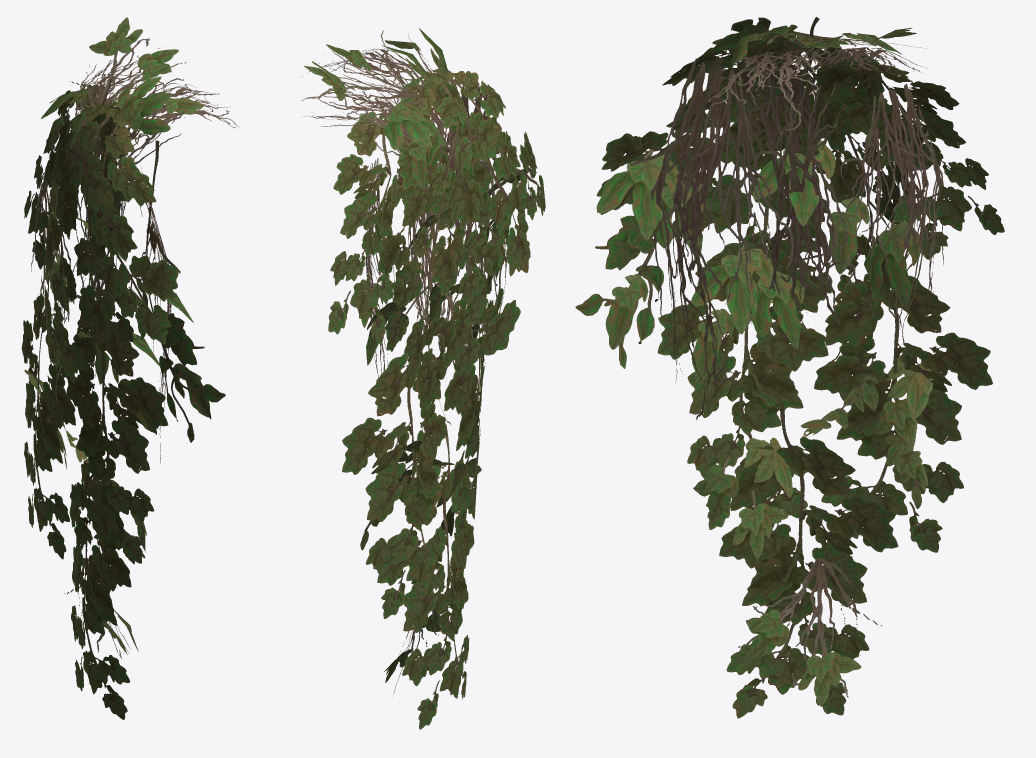
Rendered from SM_Fol_Ivy_Hanging6.fbx.
3 views of the same model, side by side, from view 1: azimuth 30°, elevation 25°; view 2: azimuth 150°, elevation 25°; view 3: azimuth 270°, elevation 25° (orthographic). The views are drawn at different scales.
Parts seen in each view (by area): view 1: SM_Fol_Ivy_Hanging6_LOD0; view 2: SM_Fol_Ivy_Hanging6_LOD0; view 3: SM_Fol_Ivy_Hanging6_LOD0.
Boxes of the visible parts, x1=… form: SM_Fol_Ivy_Hanging6_LOD0: x1=21, y1=17, x2=238, y2=719; SM_Fol_Ivy_Hanging6_LOD0: x1=301, y1=28, x2=545, y2=729; SM_Fol_Ivy_Hanging6_LOD0: x1=575, y1=17, x2=1004, y2=718.
Size of the model in its own units: 88.49 by 160 by 302.
1 material, 1 textured.
